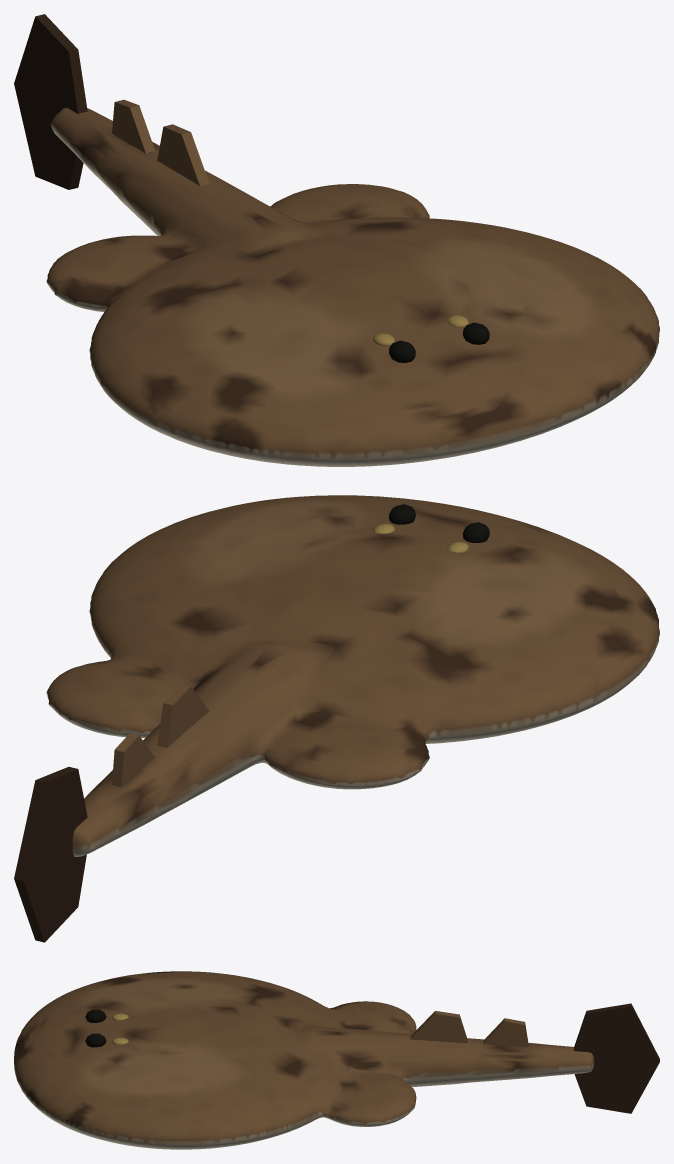
File: TitanonarkeMolini.fbx
3 renders of one model, top to bottom at view 1: azimuth 30°, elevation 25°; view 2: azimuth 150°, elevation 25°; view 3: azimuth 270°, elevation 25°, orthographic. The views are drawn at different scales.
Parts seen in each view (by area): view 1: TitanonarkeMolini; view 2: TitanonarkeMolini; view 3: TitanonarkeMolini.
Part boxes in pixels (box(x1,y1,x2,y2)): TitanonarkeMolini: box(14, 14, 659, 466); TitanonarkeMolini: box(14, 495, 659, 942); TitanonarkeMolini: box(14, 971, 659, 1149).
Bounding box in the file's own units: 0.9519 × 0.29 × 1.58.
